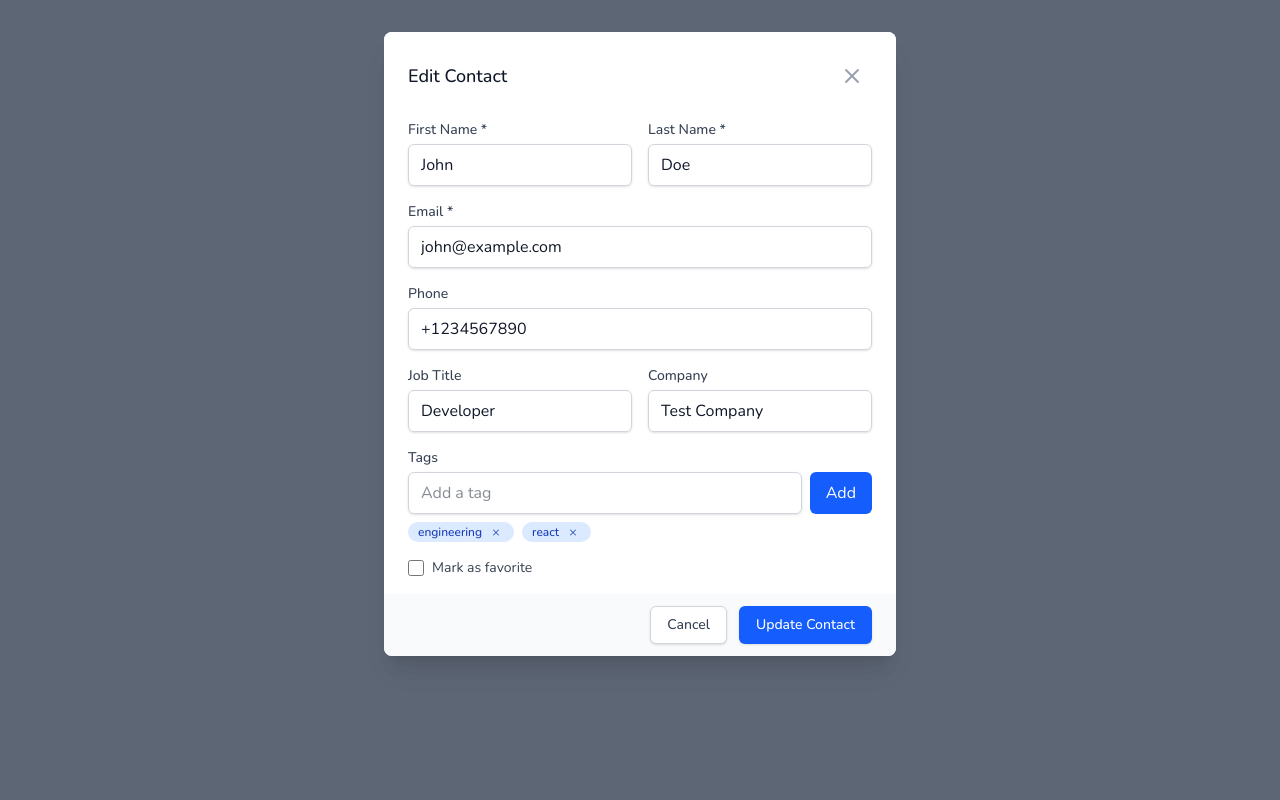
Scenario: ContactForm › handles tag addition and removal
Check: the text "engineering" is shown, box [408,522,514,542]
Check: the text "react" is shown, box [522,522,591,542]
Add a new tag
Type "new-tag" into the field with placeholder "Add a tag". click: (605, 493)
box: [408,472,802,514]
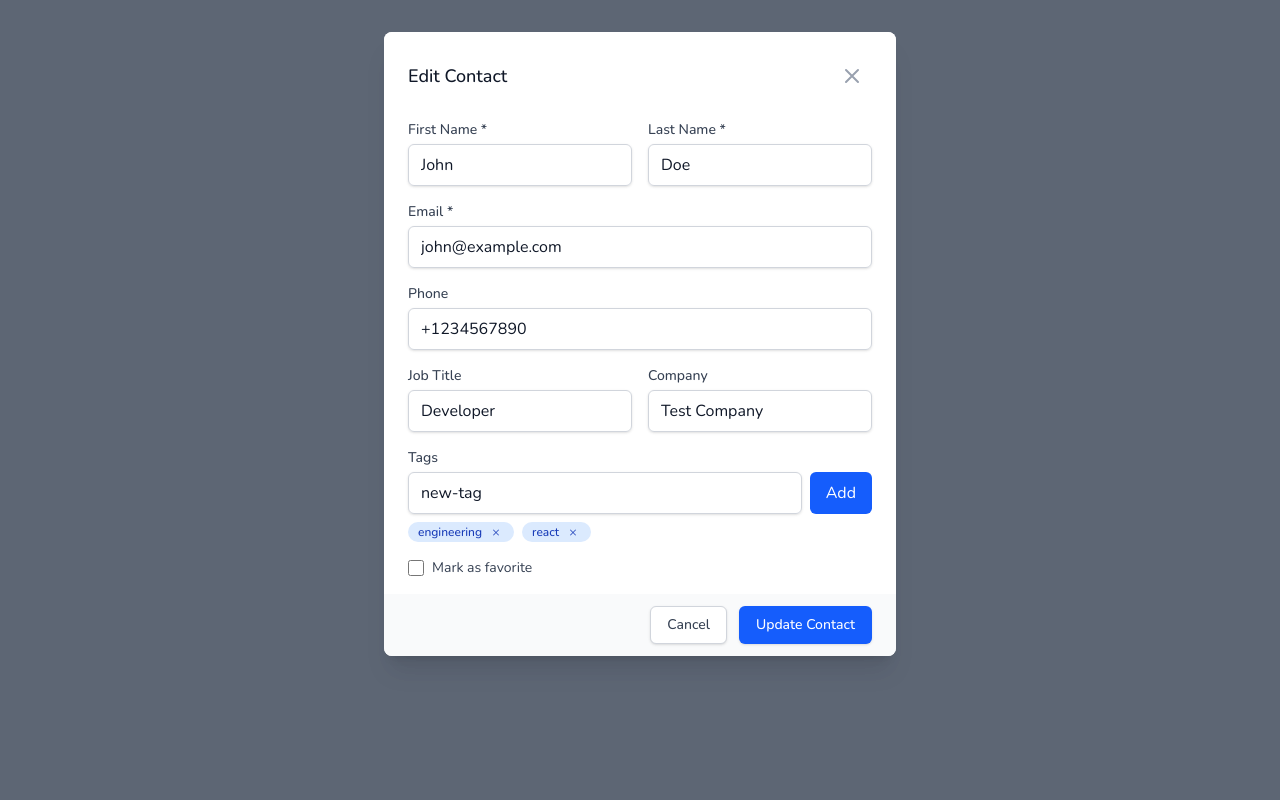
Click the button "Add". click: (841, 493)
box: [810,472,872,514]
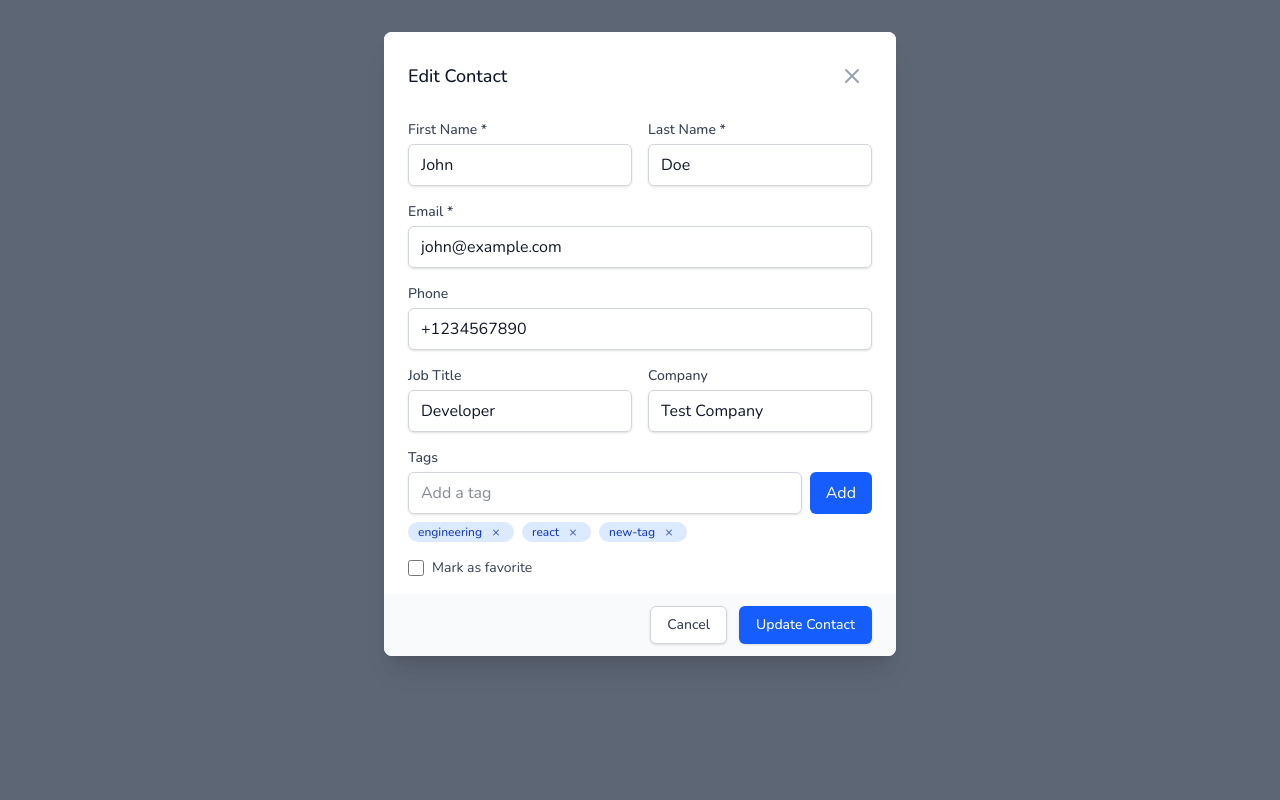
Check: the text "new-tag" is shown, box [599,522,687,542]
Click the button without text next to "engineering". click: (496, 532)
box: [488,524,504,540]
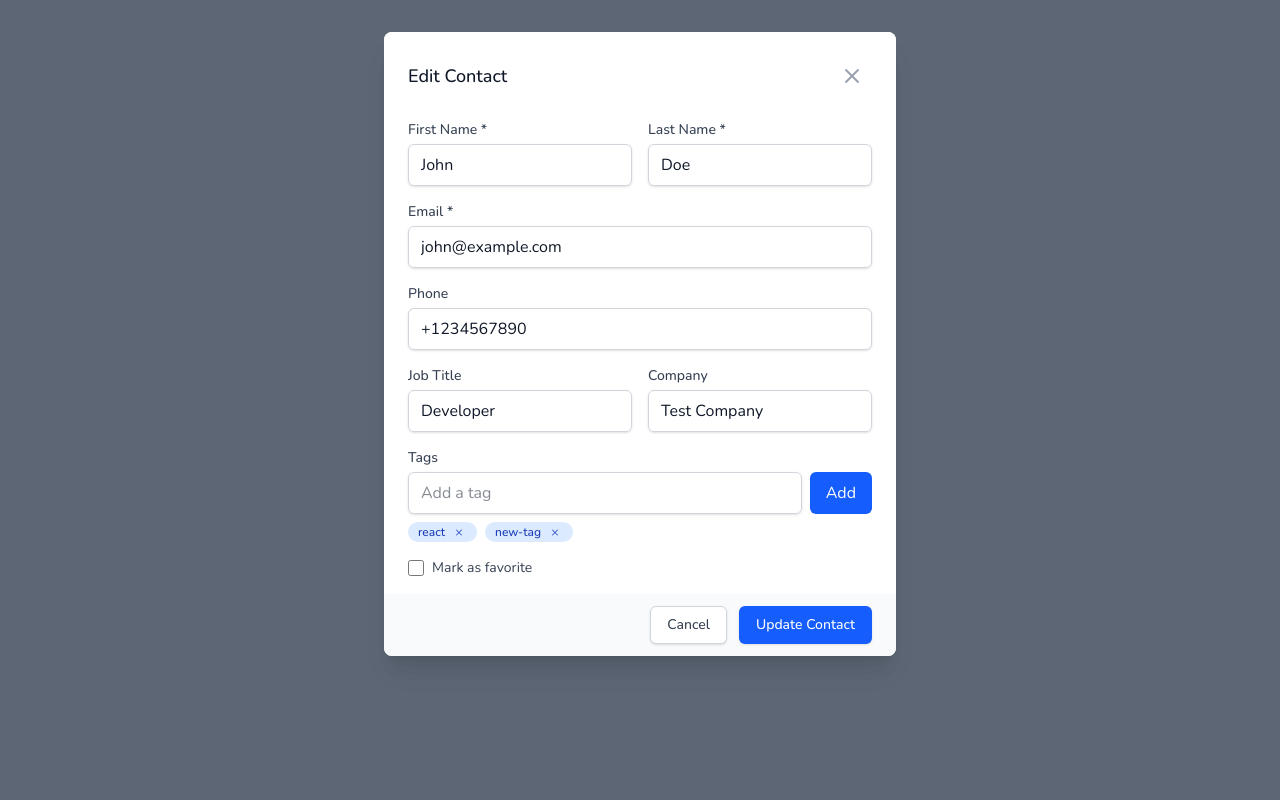
Check: the text "engineering" is gone
